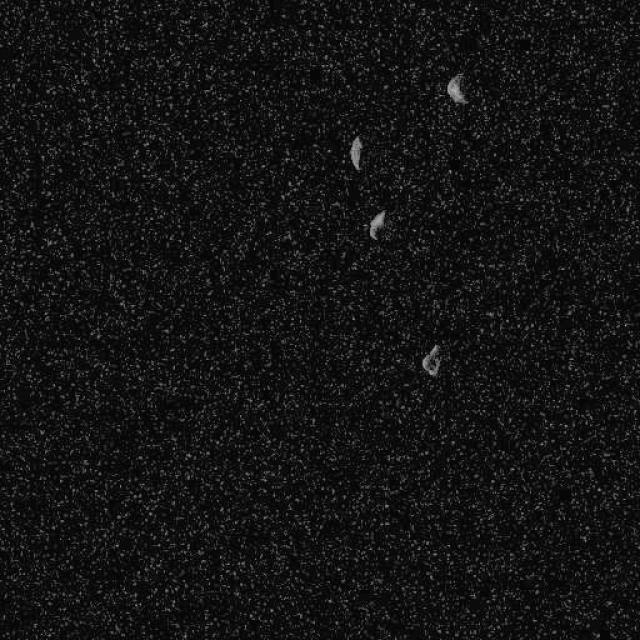D2: (445, 73, 467, 105), (422, 342, 442, 377), (368, 209, 387, 240), (348, 135, 362, 170)
